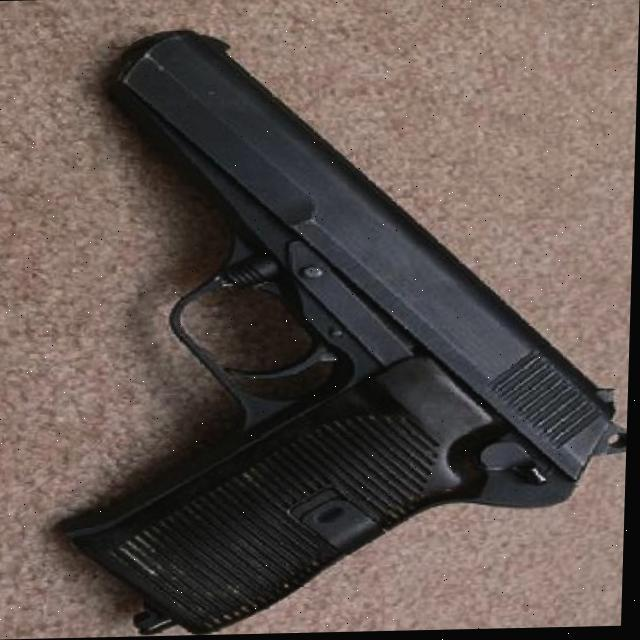gun: (72, 16, 639, 638)
